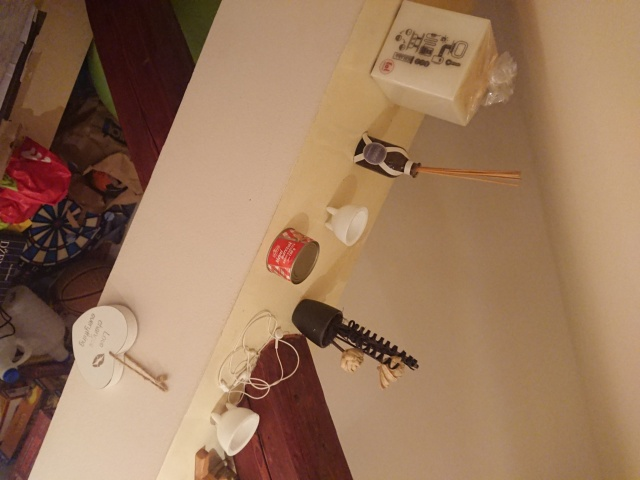Podravka Luncheon Meat 150g: (264, 225, 322, 287)
